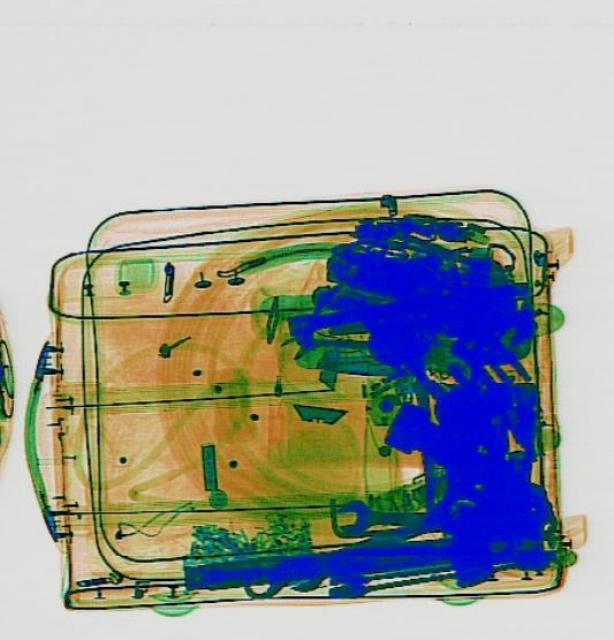Wrench: (335, 498, 438, 536)
